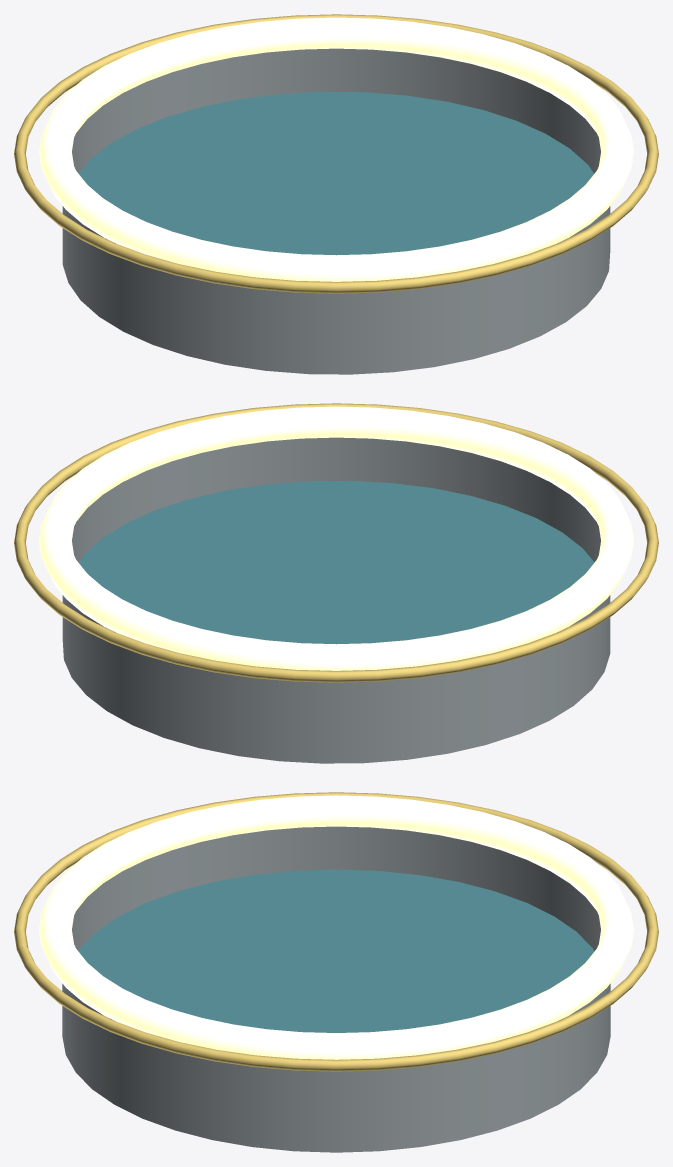
File: hole_rim_gold.glb
The picture shows the model from 3 angles, top to bottom: view 1: azimuth 30°, elevation 25°; view 2: azimuth 150°, elevation 25°; view 3: azimuth 270°, elevation 25°; orthographic projection.
Visible parts, largest first — view 1: Wall, Water, Ring, Ring2; view 2: Wall, Water, Ring, Ring2; view 3: Wall, Water, Ring, Ring2.
Part boxes in pixels (<box>): Wall: <box>62,48,610,374</box>; Water: <box>78,91,593,255</box>; Ring: <box>39,17,633,281</box>; Ring2: <box>14,14,658,293</box>; Wall: <box>62,437,610,763</box>; Water: <box>79,480,594,644</box>; Ring: <box>39,406,633,670</box>; Ring2: <box>14,403,658,682</box>; Wall: <box>62,826,610,1152</box>; Water: <box>78,869,594,1032</box>; Ring: <box>39,795,633,1059</box>; Ring2: <box>14,792,658,1071</box>.
Size of the model in its own units: 2.73 by 0.57 by 2.73.
